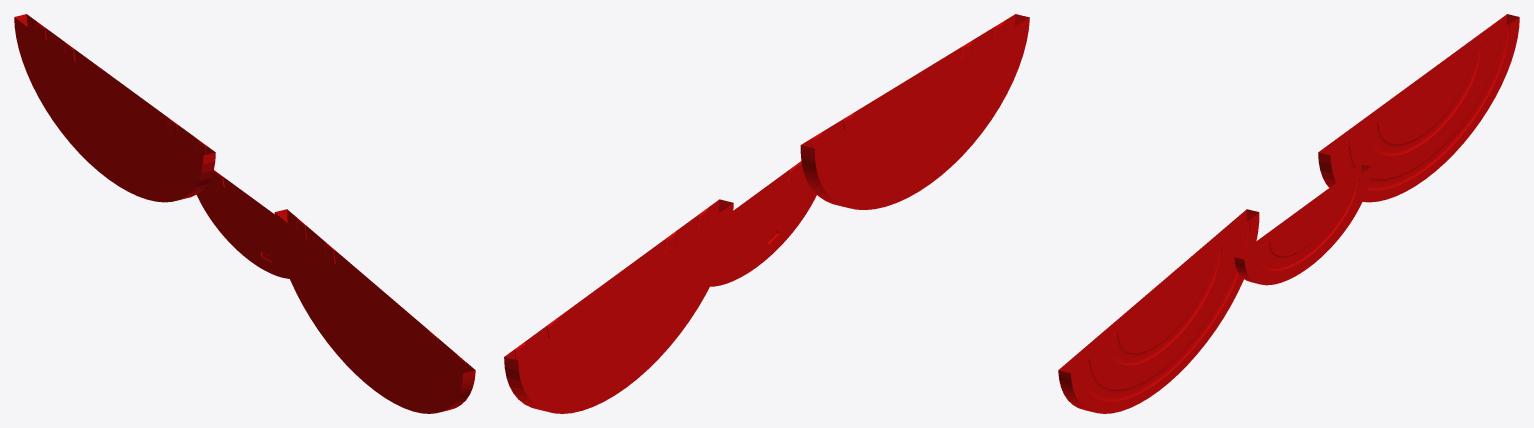
File: topcurtain2.fbx
The picture shows the model from 3 angles, left to right: view 1: azimuth 30°, elevation 25°; view 2: azimuth 150°, elevation 25°; view 3: azimuth 330°, elevation 25°; orthographic projection. The views are drawn at different scales.
Visible parts, largest first — view 1: polySurface2, polySurface1, polySurface3; view 2: polySurface1, polySurface2, polySurface3; view 3: polySurface2, polySurface1, polySurface3.
Part boxes in pixels (x1,y1,x2,y2): polySurface2: (274,209,475,413); polySurface1: (14,14,215,202); polySurface3: (197,170,289,278); polySurface1: (504,199,733,413); polySurface2: (800,14,1029,209); polySurface3: (710,161,816,286); polySurface2: (1058,209,1259,413); polySurface1: (1318,14,1519,202); polySurface3: (1234,164,1371,285).
Size of the model in its own units: 84.92 by 371 by 2751.
